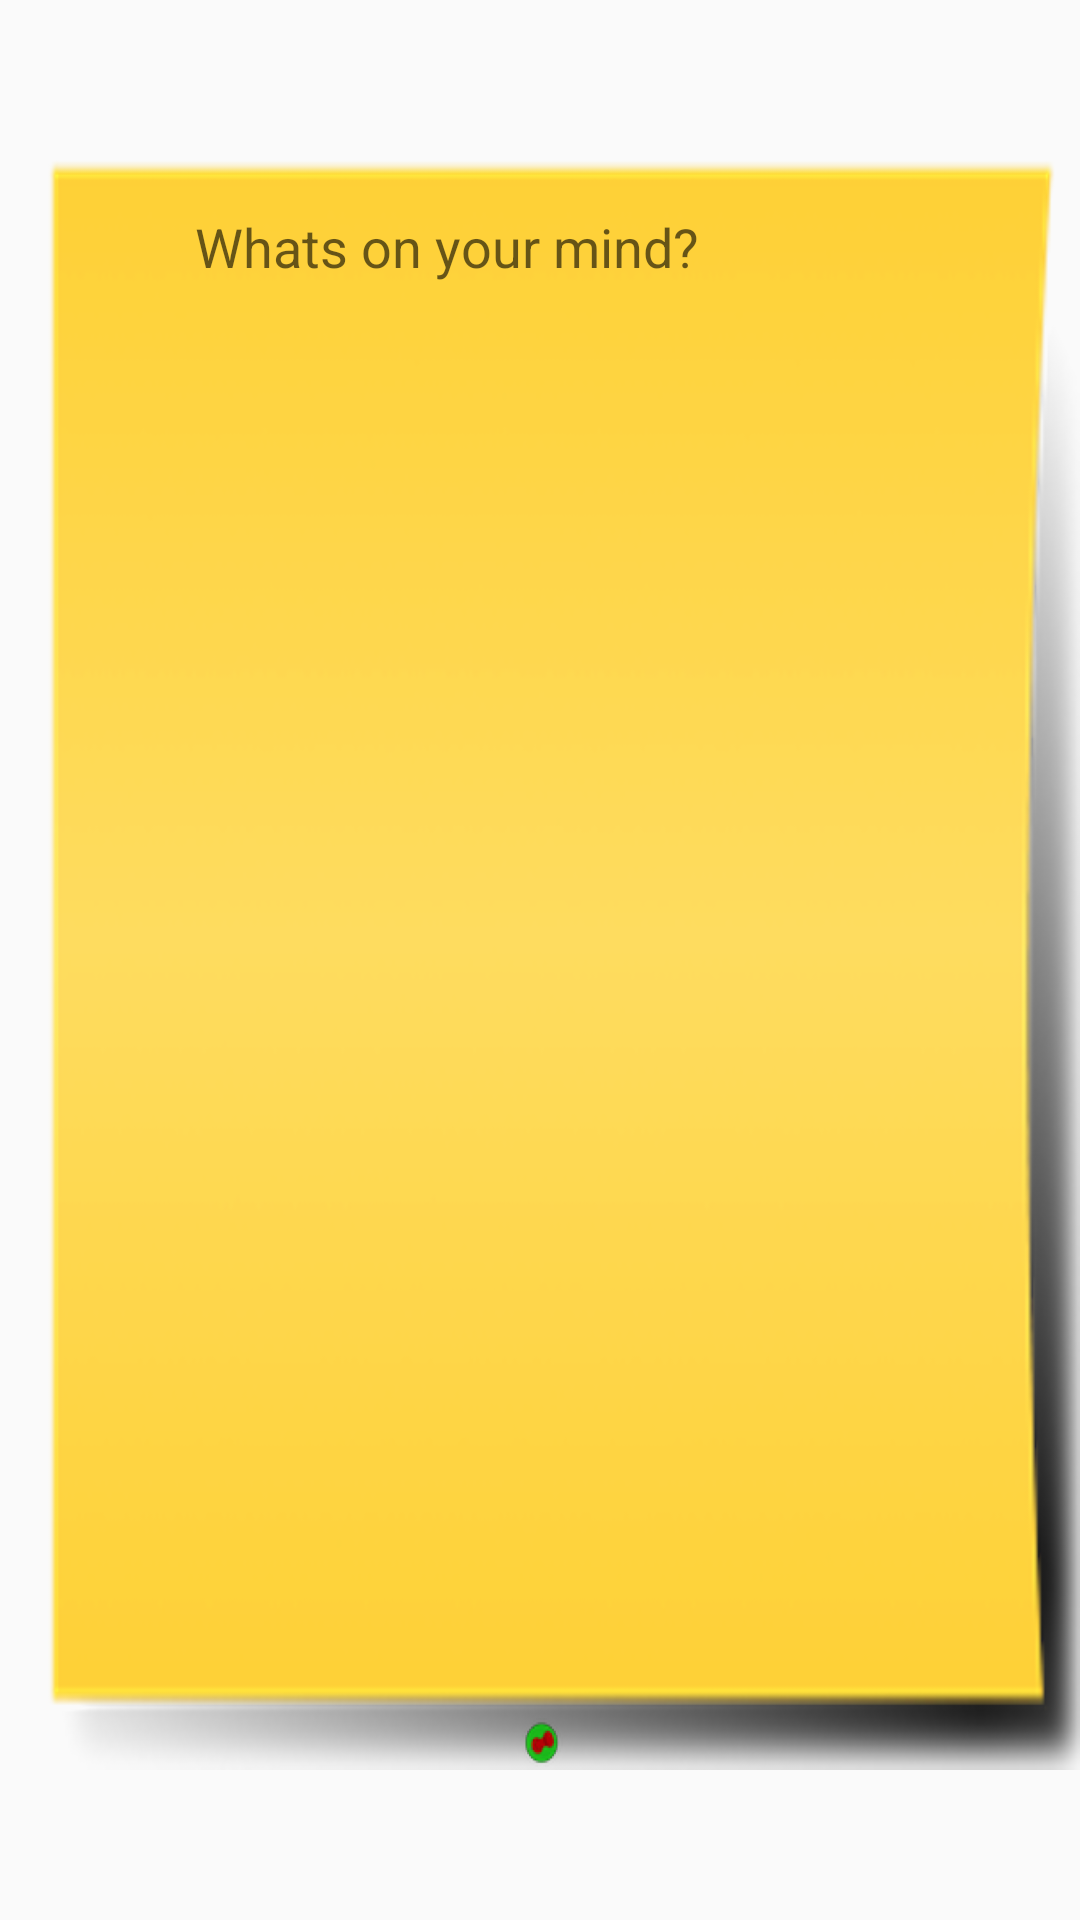

Named icons in this screenshot (1080px x 1920px) and their centers, [x,y]:
greenbutton: [540,1742]
